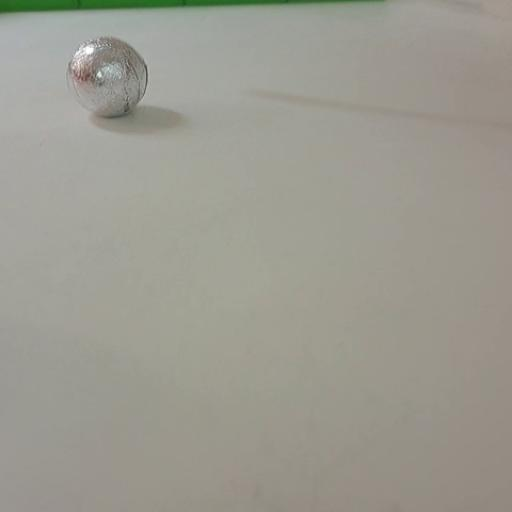alive: (65, 36, 148, 117)
